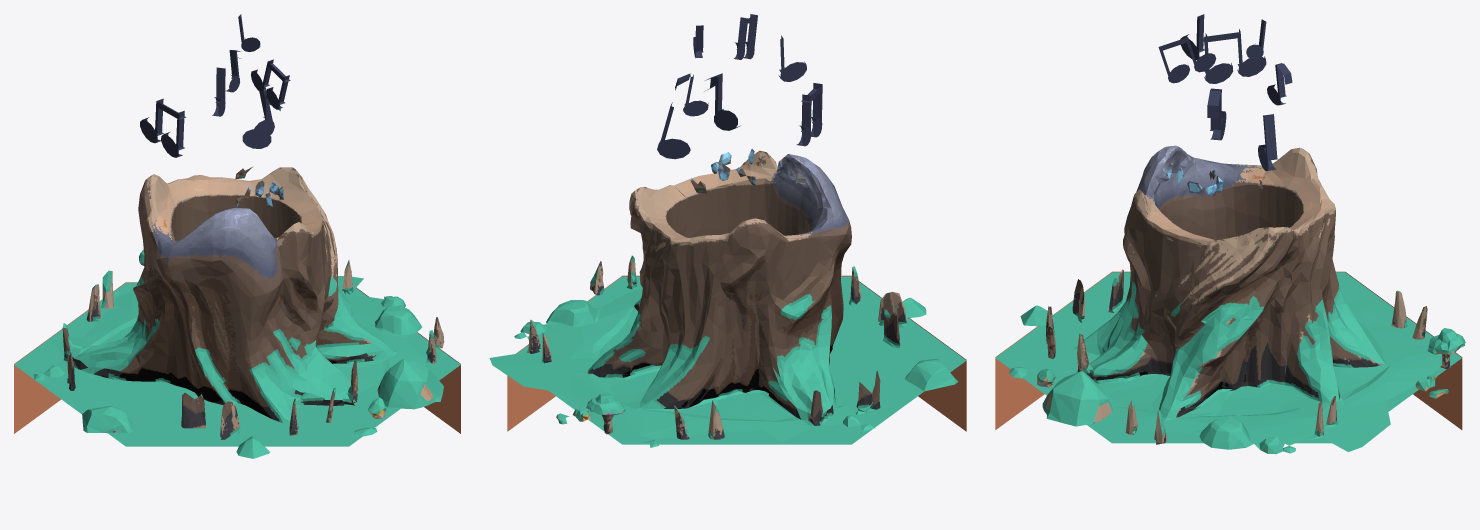
The model's file is tinkle-trunk-notes.glb.
3 views of the same model, side by side, from view 1: azimuth 30°, elevation 25°; view 2: azimuth 150°, elevation 25°; view 3: azimuth 270°, elevation 25° (orthographic). The views are drawn at different scales.
Visible parts, largest first — view 1: world, hexBase, notes; view 2: world, hexBase, notes; view 3: world, hexBase, notes.
Part boxes in pixels (box(x1,y1,x2,y2)): world: box(33, 166, 444, 458); hexBase: box(14, 282, 460, 446); notes: box(140, 14, 290, 157); world: box(489, 148, 958, 447); hexBase: box(507, 275, 966, 444); notes: box(657, 14, 822, 159); world: box(1009, 145, 1465, 454); hexBase: box(995, 271, 1462, 443); notes: box(1158, 14, 1292, 170).
Size of the model in its own units: 1.11 by 1.15 by 1.16.
4 materials, 1 textured.
